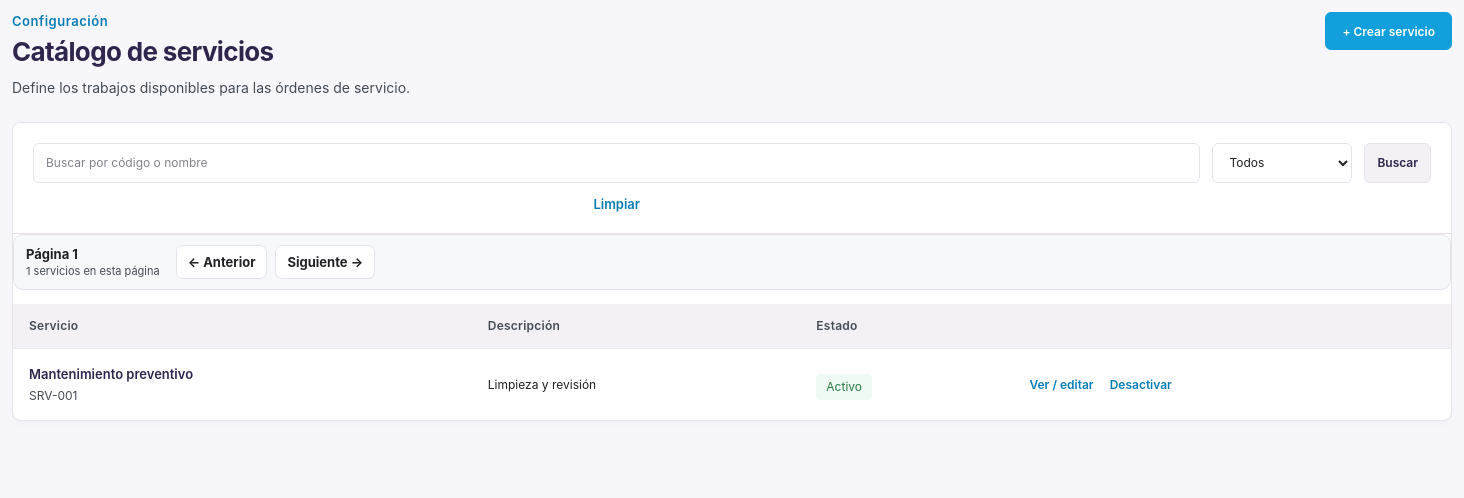
Test: Gestión de Servicios › desactiva un servicio
Expected: the text "Mantenimiento preventivo" is shown, [29,366,193,382]
Click the button "Desactivar" at (1141, 385), box [1102,369,1180,401]
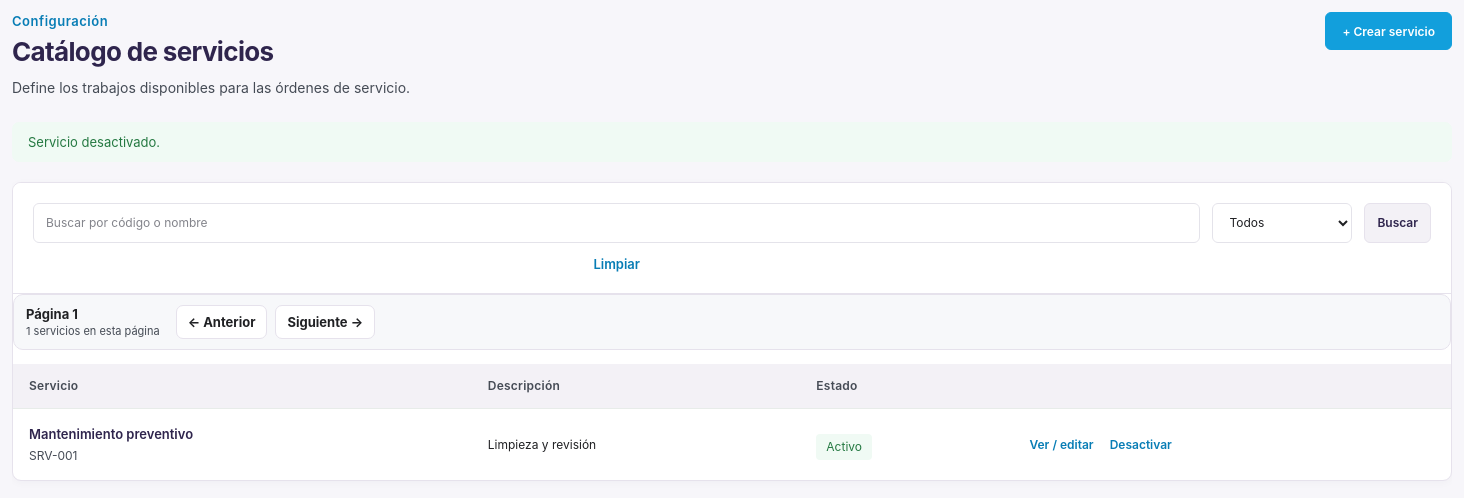
Expected: the message reads "Servicio desactivado.", [28,134,160,150]
